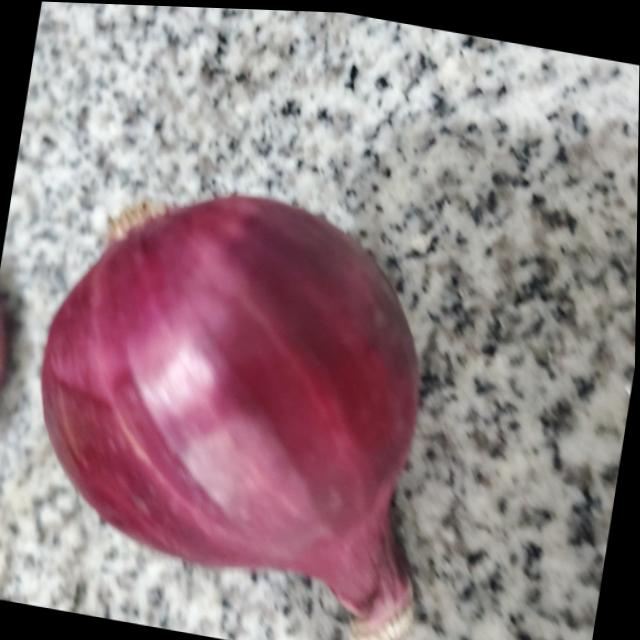onion: (15, 162, 481, 628)
